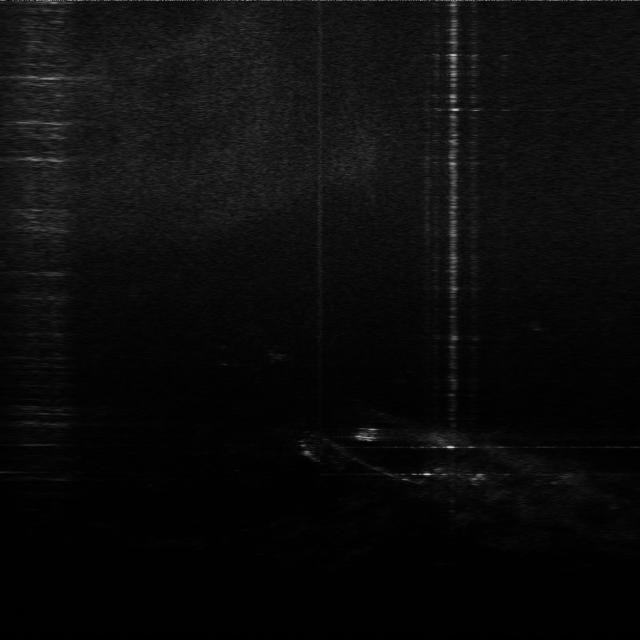rov: (352, 426, 381, 443)
